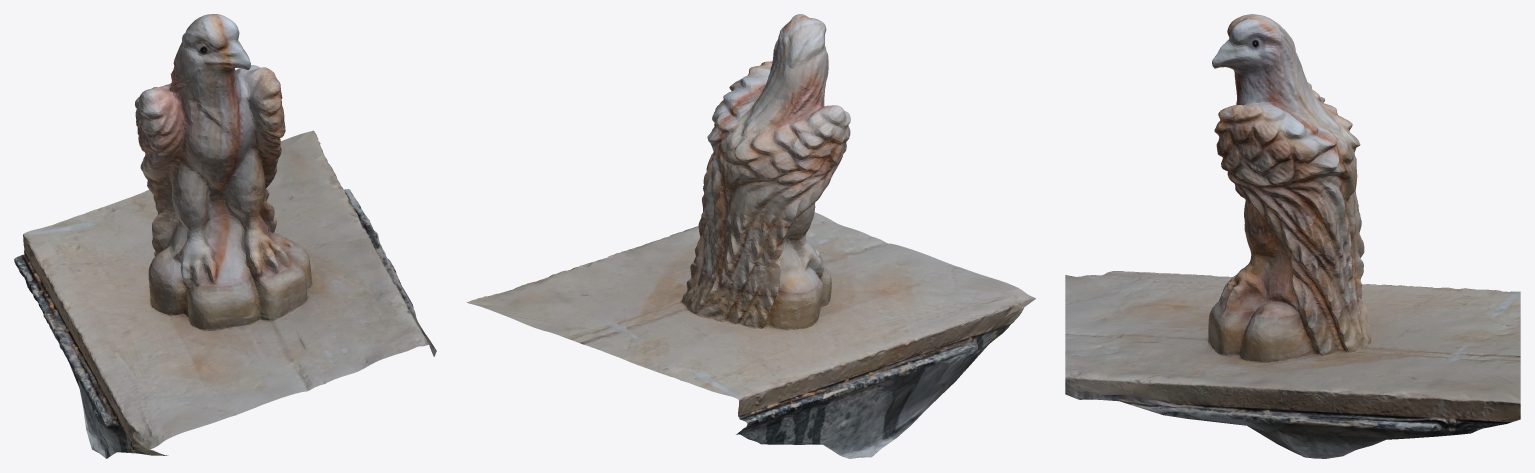
File: eagle.glb
3 views of the same model, side by side, from view 1: azimuth 30°, elevation 25°; view 2: azimuth 150°, elevation 25°; view 3: azimuth 270°, elevation 25° (orthographic). The views are drawn at different scales.
Bounding box in the file's own units: 1.06 × 1.12 × 1.05.
1 material, 1 textured.
